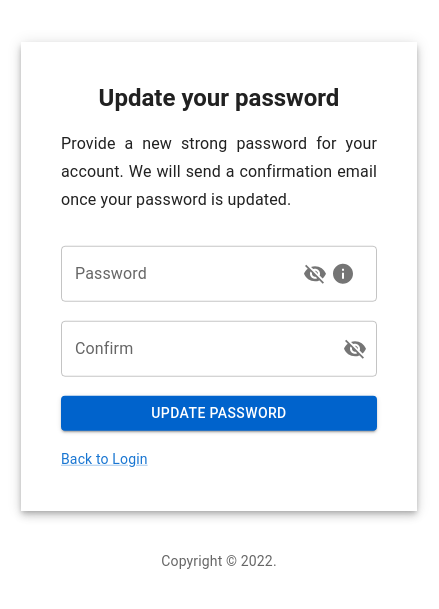
Testing the resetPasswordConfirm view › Bad request throws flash error when token is invalid
Click the button "Update Password" at {"x": 219, "y": 413}, box [61,396,377,430]
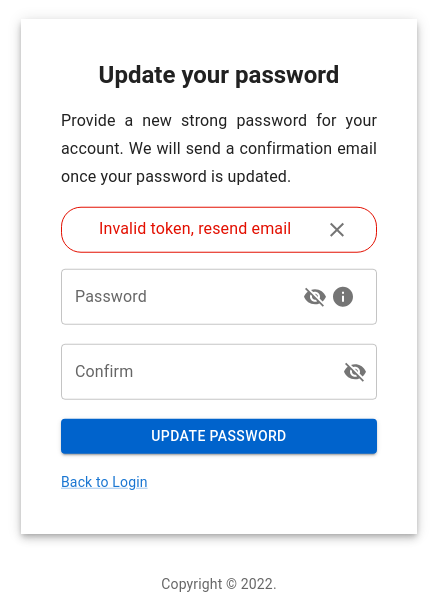
Now the text "Invalid token, resend email" is shown, box [67,213,291,241]
